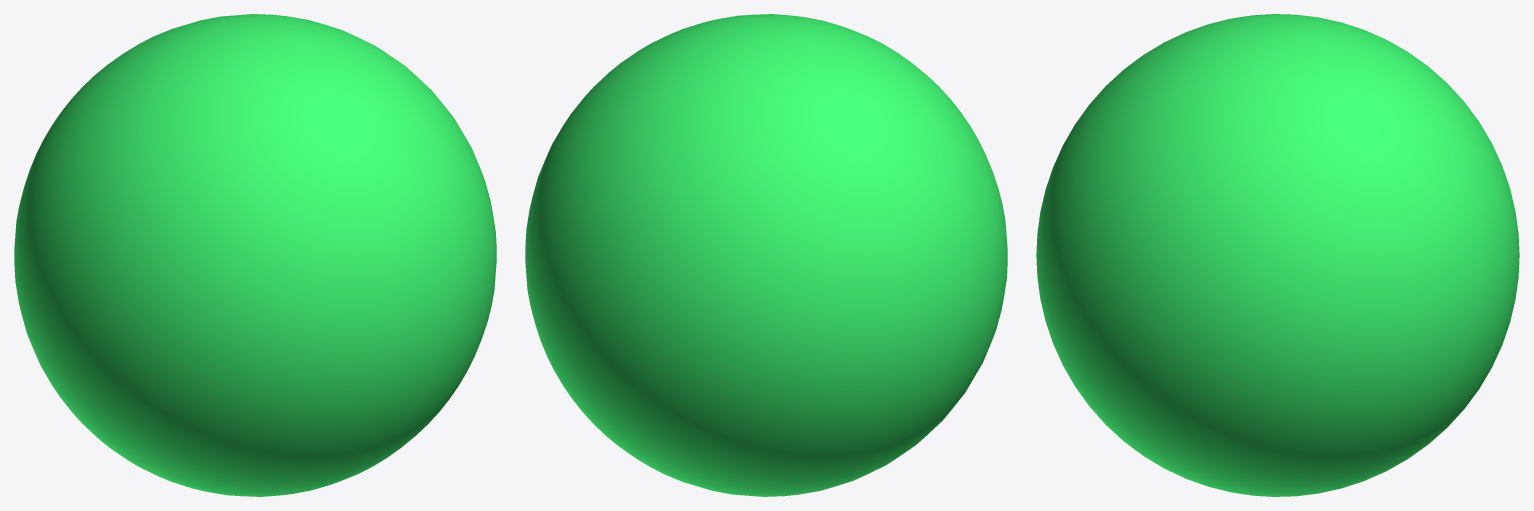
File: frc_element_1.glb
3 renders of one model, left to right at view 1: azimuth 30°, elevation 25°; view 2: azimuth 150°, elevation 25°; view 3: azimuth 270°, elevation 25°, orthographic.
Parts seen in each view (by area): view 1: Body1; view 2: Body1; view 3: Body1.
Part boxes in pixels (left/top/right/bottom): Body1: left=14, top=14, right=496, bottom=496; Body1: left=525, top=14, right=1007, bottom=496; Body1: left=1036, top=14, right=1519, bottom=496.
Size of the model in its own units: 16.25 by 16.25 by 16.25.
